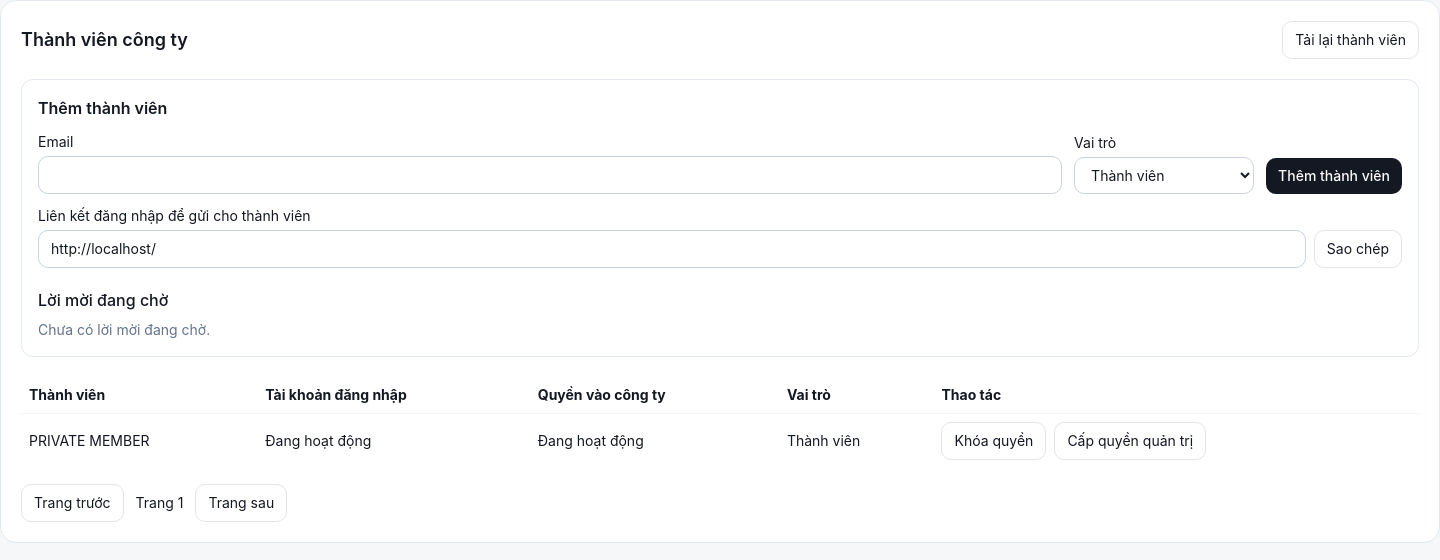
it: conflict stale-version clears rows/pending and requires reload
Check: the text "PRIVATE MEMBER" is shown, box [21,414,257,468]
Click the button with aria-label "Cấp quyền quản trị PRIVATE MEMBER": x=1130, y=441 [1054,422,1206,460]
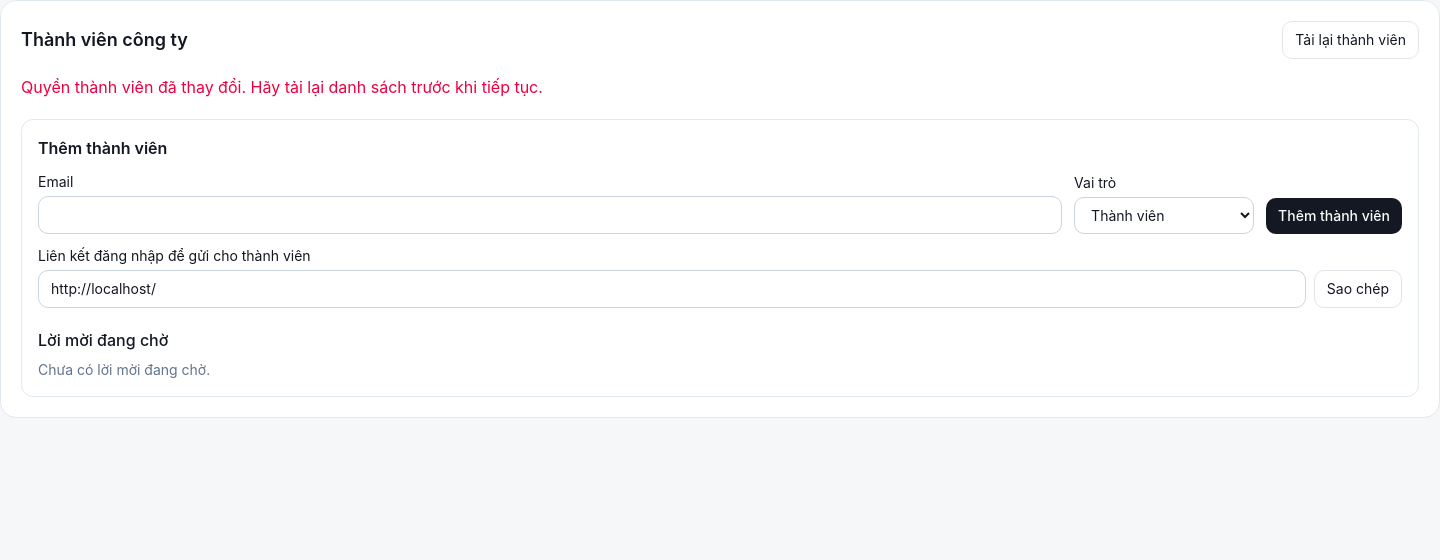
Check: the message "Quyền thành viên đã thay đổi. Hãy tải lại danh sách trước khi tiếp tục." is shown, box [21,77,543,97]
Check: the text "PRIVATE MEMBER" is gone
Click the button "Tải lại thành viên": x=1351, y=40 [1282,21,1419,59]
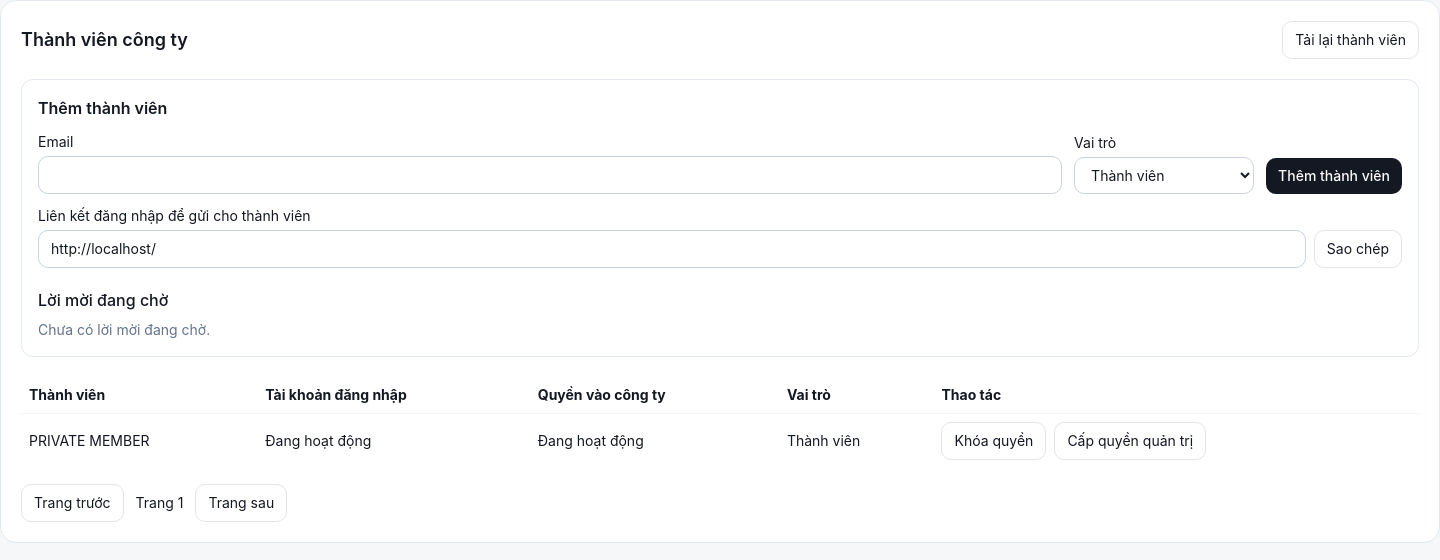
Check: the text "PRIVATE MEMBER" is shown, box [21,414,257,468]
